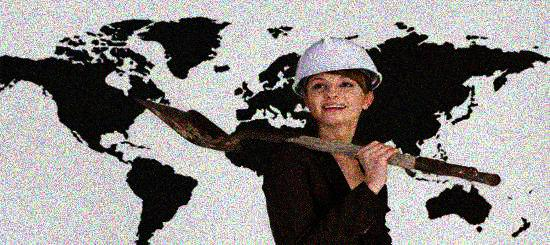helmet: (295, 38, 382, 126)
